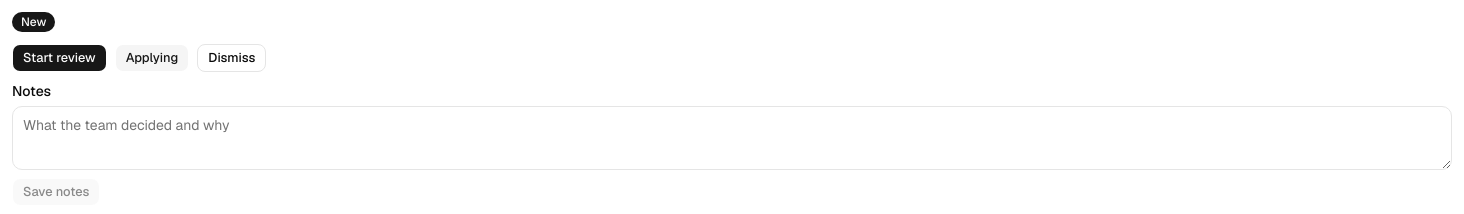
Scenario: MatchStatusControl › moves the match with one click and refreshes the page data
Click the button "Start review" at (59, 58), box [12,44,107,72]
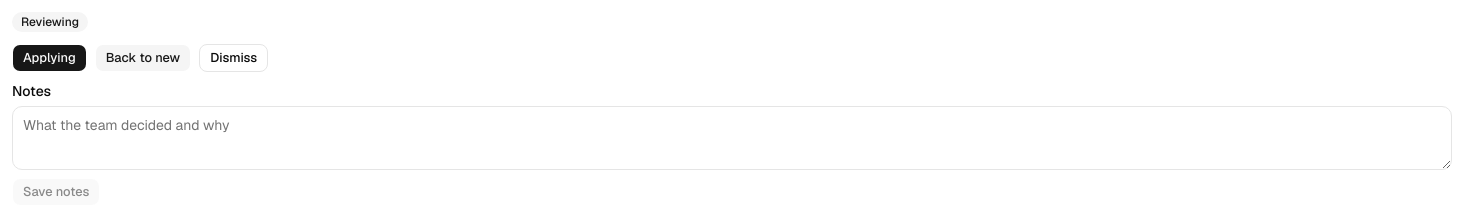
Expected: the text with test id "match-status" reads "Reviewing", [21,14,79,30]
